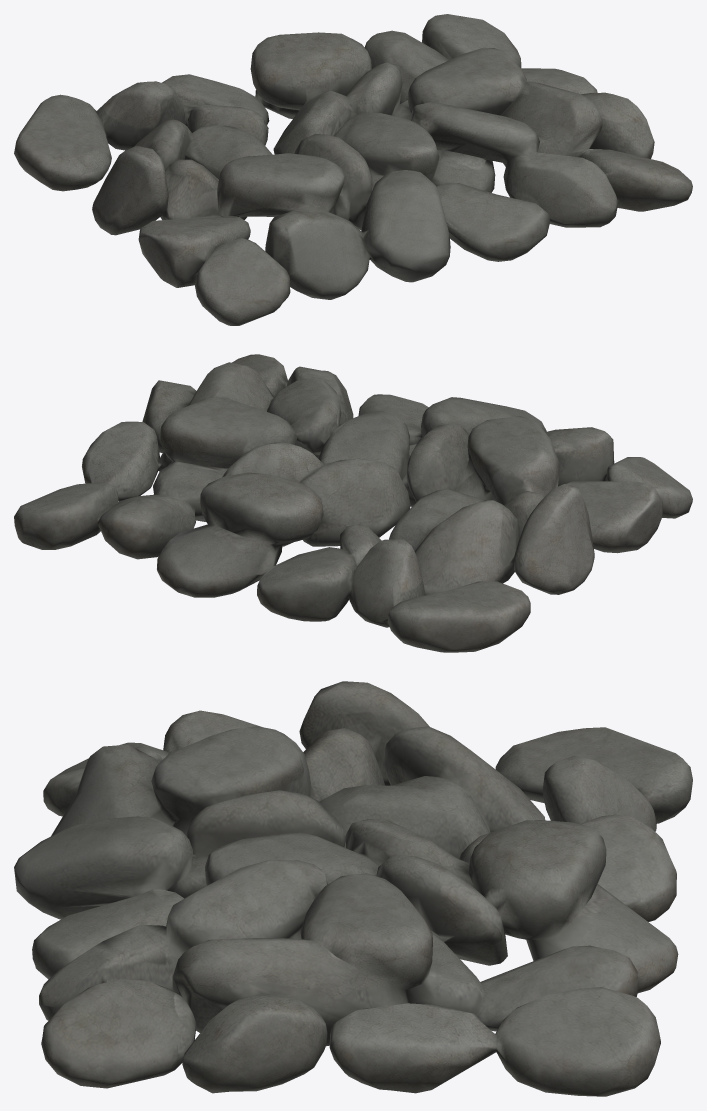
Rendered from river_rocks.glb.
3 views of the same model, one above another, from view 1: azimuth 30°, elevation 25°; view 2: azimuth 150°, elevation 25°; view 3: azimuth 270°, elevation 25° (orthographic). The views are drawn at different scales.
Bounding box in the file's own units: 1.89 × 0.3528 × 1.65.
Materials: 1 (1 with a texture image).
